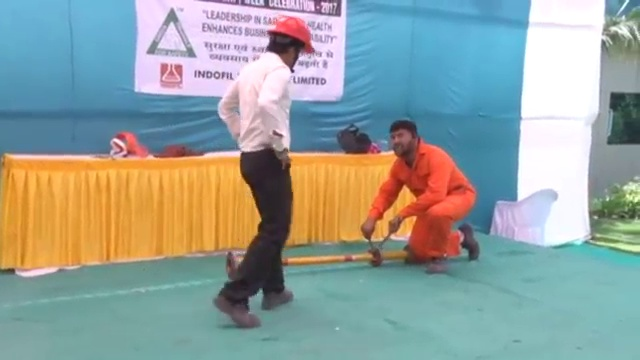helmet: (268, 14, 317, 53)
helmet_off: (389, 120, 418, 158)
helmet_on: (264, 11, 318, 71)
person: (216, 12, 320, 325), (360, 121, 480, 275)
